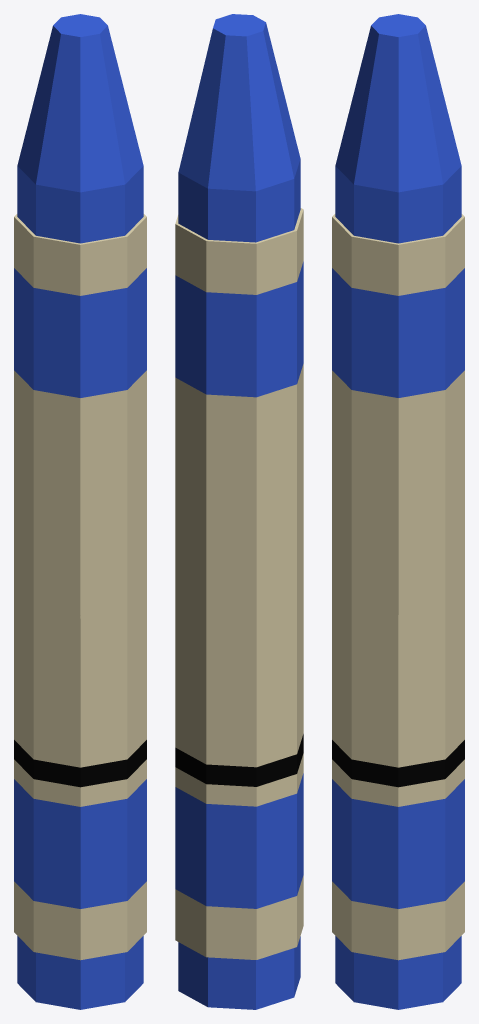
Rendered from CrayonBlue.fbx.
3 views of the same model, side by side, from view 1: azimuth 90°, elevation 25°; view 2: azimuth 150°, elevation 25°; view 3: azimuth 270°, elevation 25° (orthographic).
Visible parts, largest first — view 1: CrayonBlue; view 2: CrayonBlue; view 3: CrayonBlue.
Boxes of the visible parts, x1=… form: CrayonBlue: x1=14, y1=14, x2=146, y2=1009; CrayonBlue: x1=175, y1=14, x2=303, y2=1009; CrayonBlue: x1=332, y1=14, x2=464, y2=1009.
Size of the model in its own units: 89.18 by 710 by 89.18.
